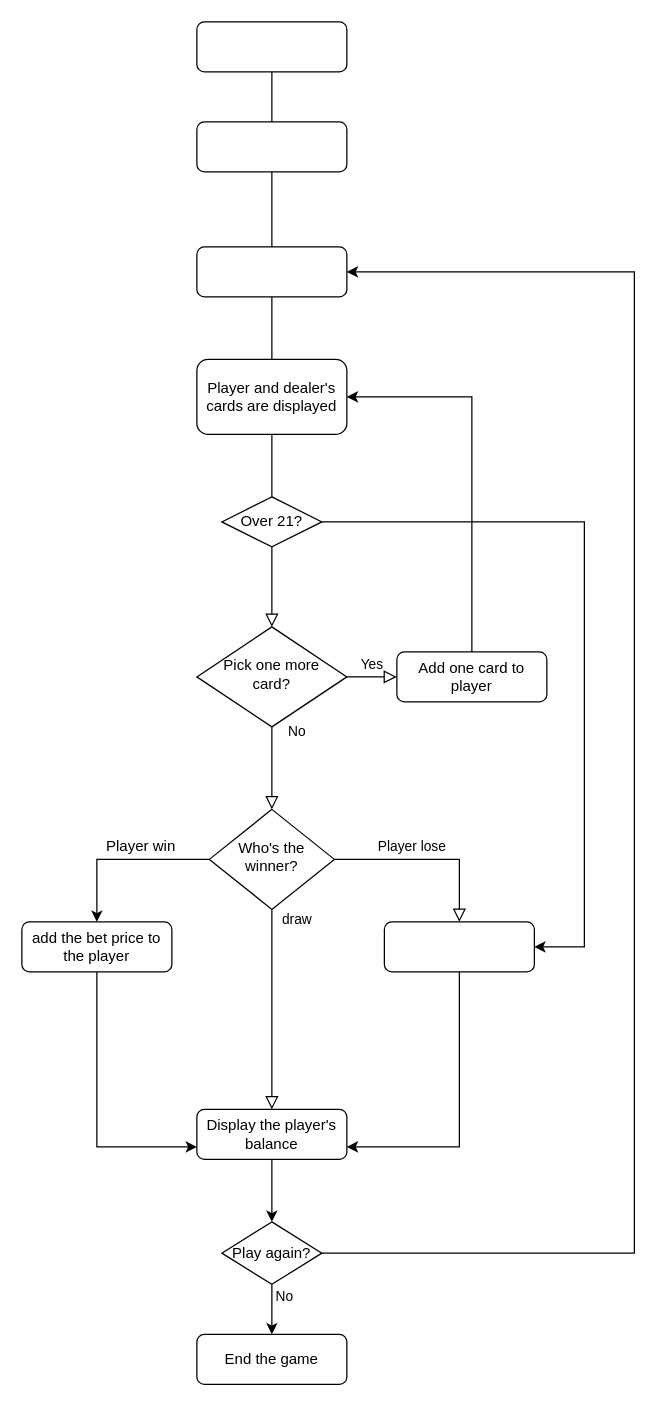
Image size: 666x1406. Some labels were removed from this diagram. Here are the shapes that lost their labels. From the top down, the box of each, then its label:
(196, 21, 347, 72): start
(196, 121, 347, 172): Set the player's initial balance
(196, 246, 347, 297): How much to bet?
(383, 921, 534, 972): subtract the bet price to the player
